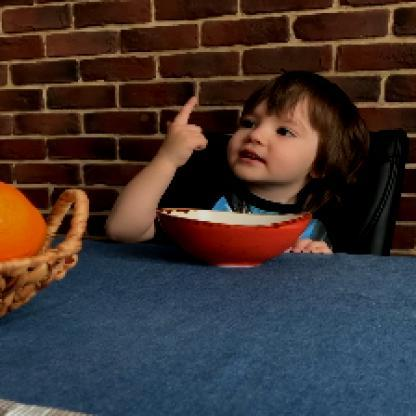child: (105, 71, 372, 255)
